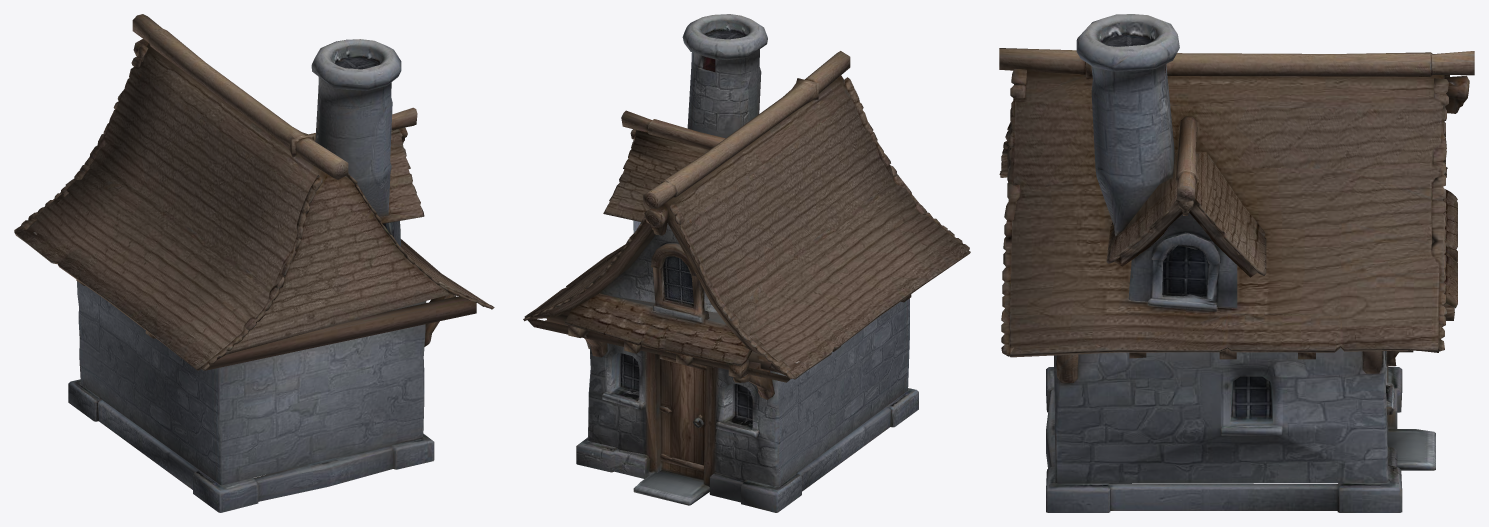
File: barrosan_clan_croft.glb
3 views of the same model, side by side, from view 1: azimuth 30°, elevation 25°; view 2: azimuth 150°, elevation 25°; view 3: azimuth 270°, elevation 25° (orthographic). The views are drawn at different scales.
Size of the model in its own units: 1.97 by 2.5 by 2.34.
Materials: 1 (1 with a texture image).
